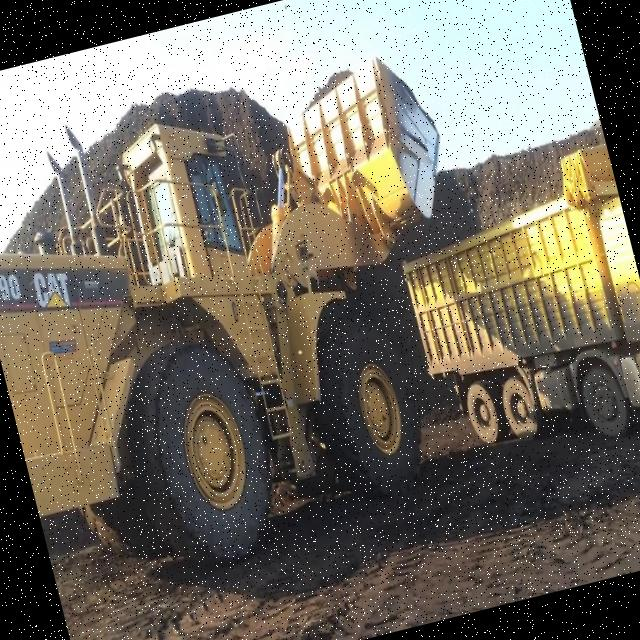Dump Truck: (380, 133, 640, 484)
Loader: (0, 20, 529, 603)
